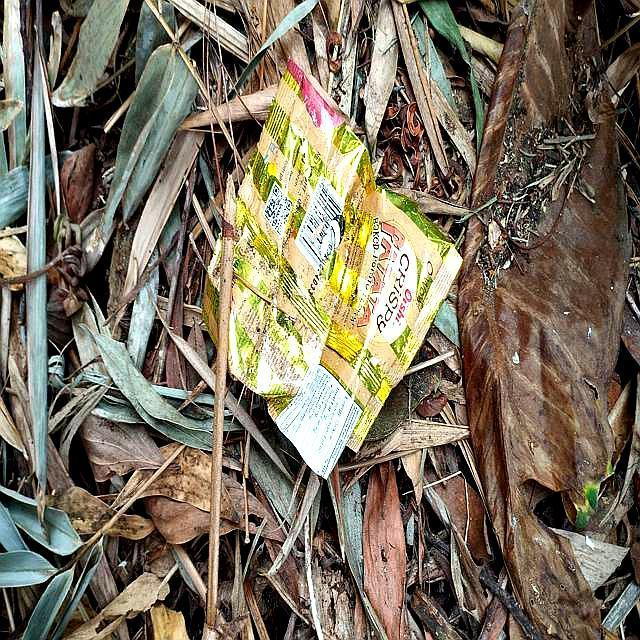Non-biodegradable: (205, 59, 465, 479)
